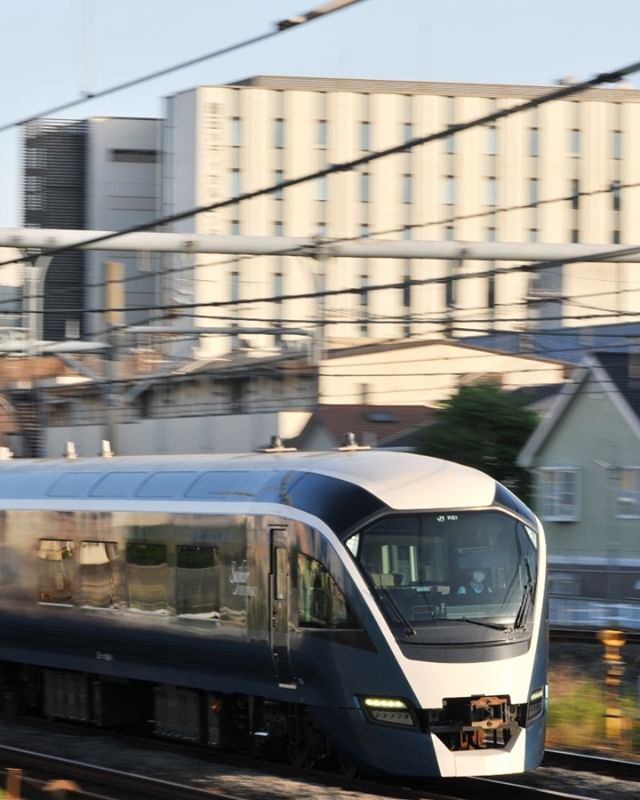building: (172, 76, 640, 335), (514, 368, 640, 714), (10, 133, 164, 344)
train: (1, 458, 555, 786)
